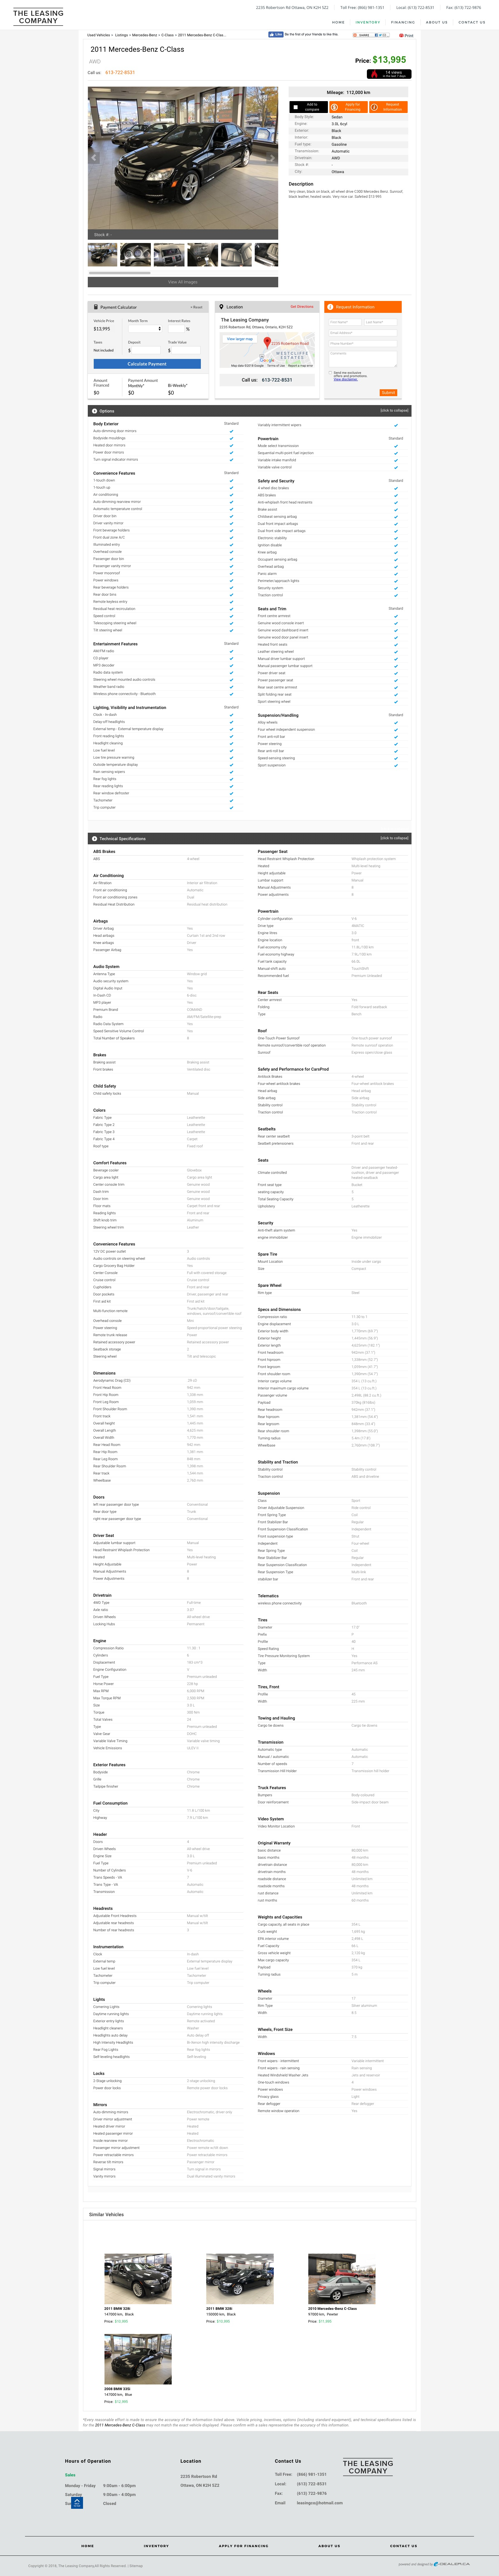car: (271, 154, 276, 161)
